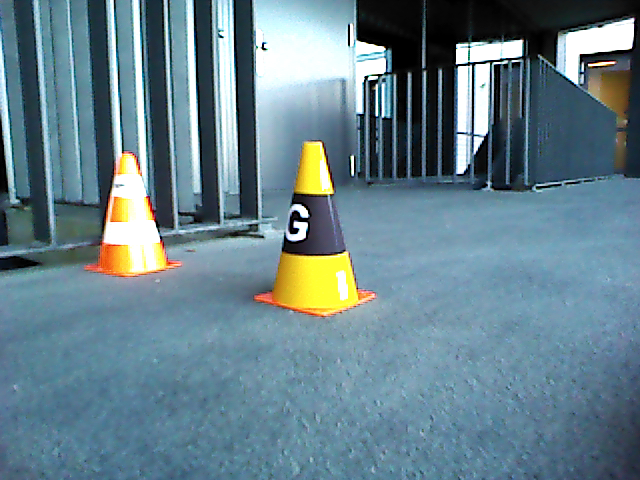orangeconesmall: (88, 153, 178, 273)
yellowcone: (275, 141, 358, 300)
